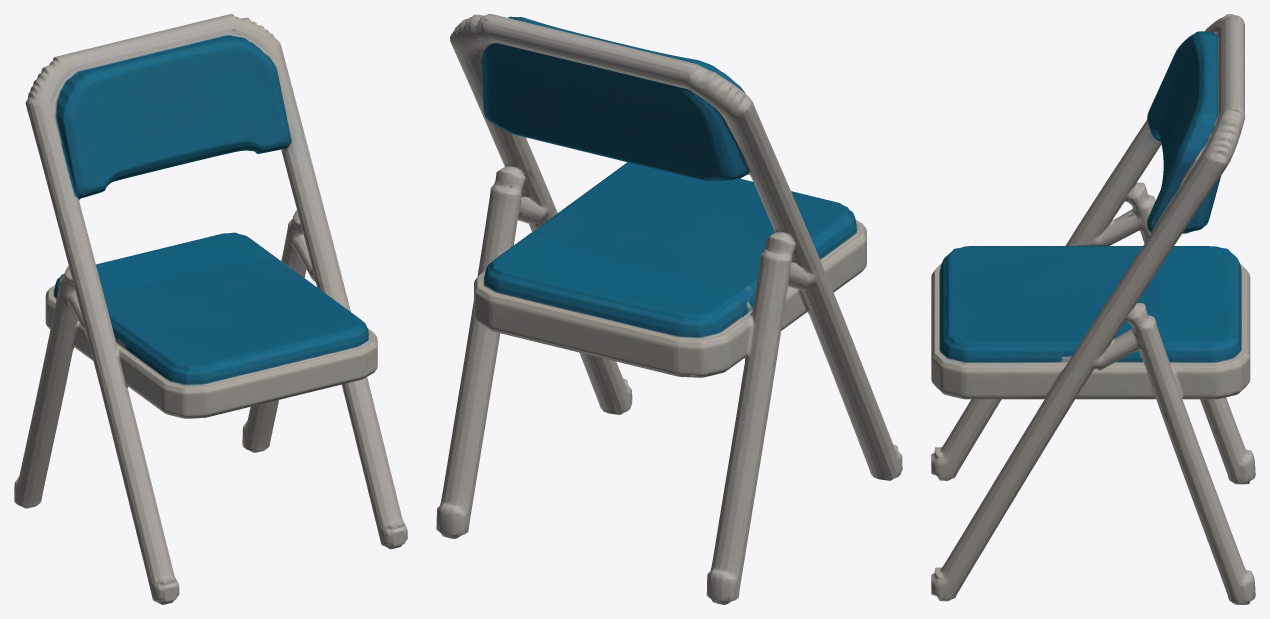
The model's file is chair.glb.
The picture shows the model from 3 angles, left to right: view 1: azimuth 30°, elevation 25°; view 2: azimuth 150°, elevation 25°; view 3: azimuth 270°, elevation 25°; orthographic projection. The views are drawn at different scales.
Parts seen in each view (by area): view 1: material; view 2: material; view 3: material.
Part boxes in pixels (<box>): material: <box>14,14,407,604</box>; material: <box>436,14,902,604</box>; material: <box>931,14,1255,604</box>.
Bounding box in the file's own units: 0.552 × 0.9297 × 0.5699.
1 material, 1 textured.
